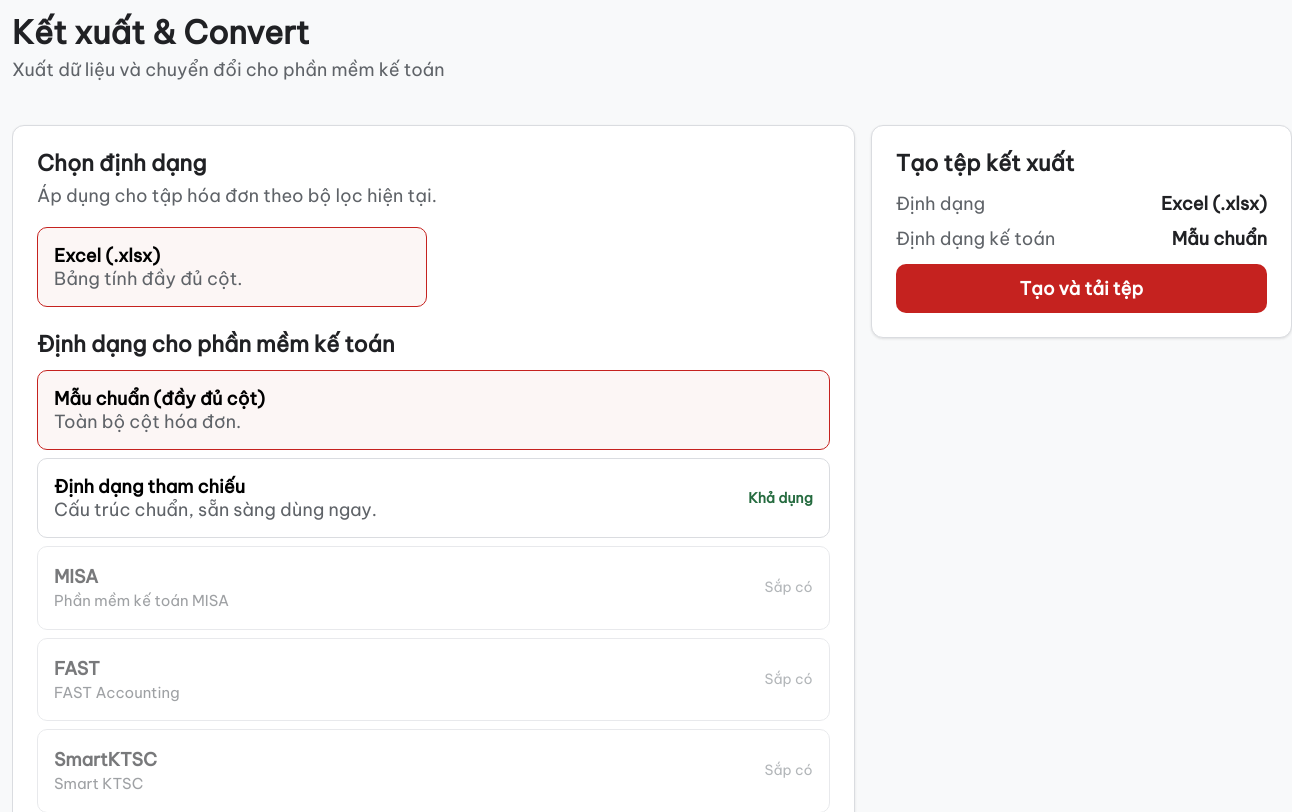
Test case: U15.4 — kết xuất & convert › mẫu chuẩn (native) → POST /exports?format=xlsx rồi tải
Click the button "Tạo và tải tệp" at (1081, 288), box left=896, top=264, right=1267, bottom=312
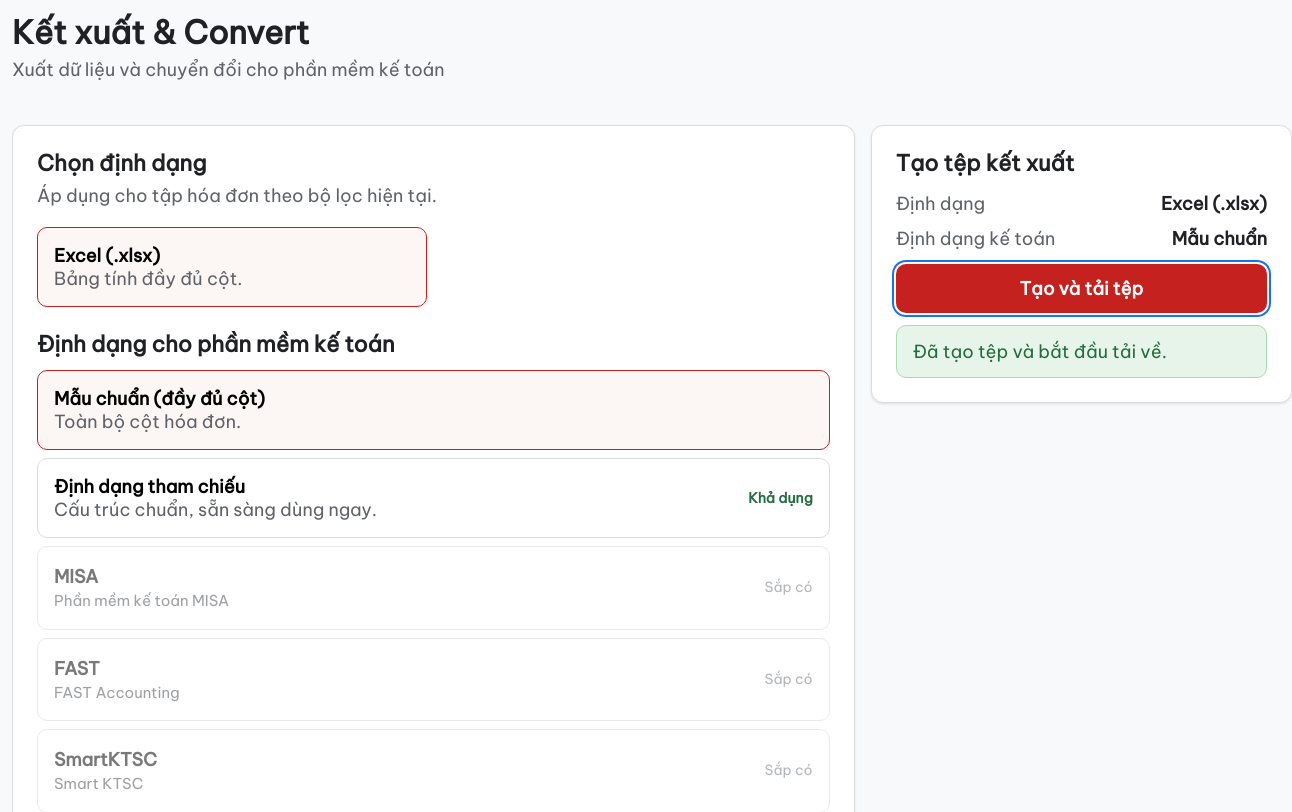
Result: the text "Đã tạo tệp và bắt đầu tải về." is shown at left=896, top=324, right=1267, bottom=378
